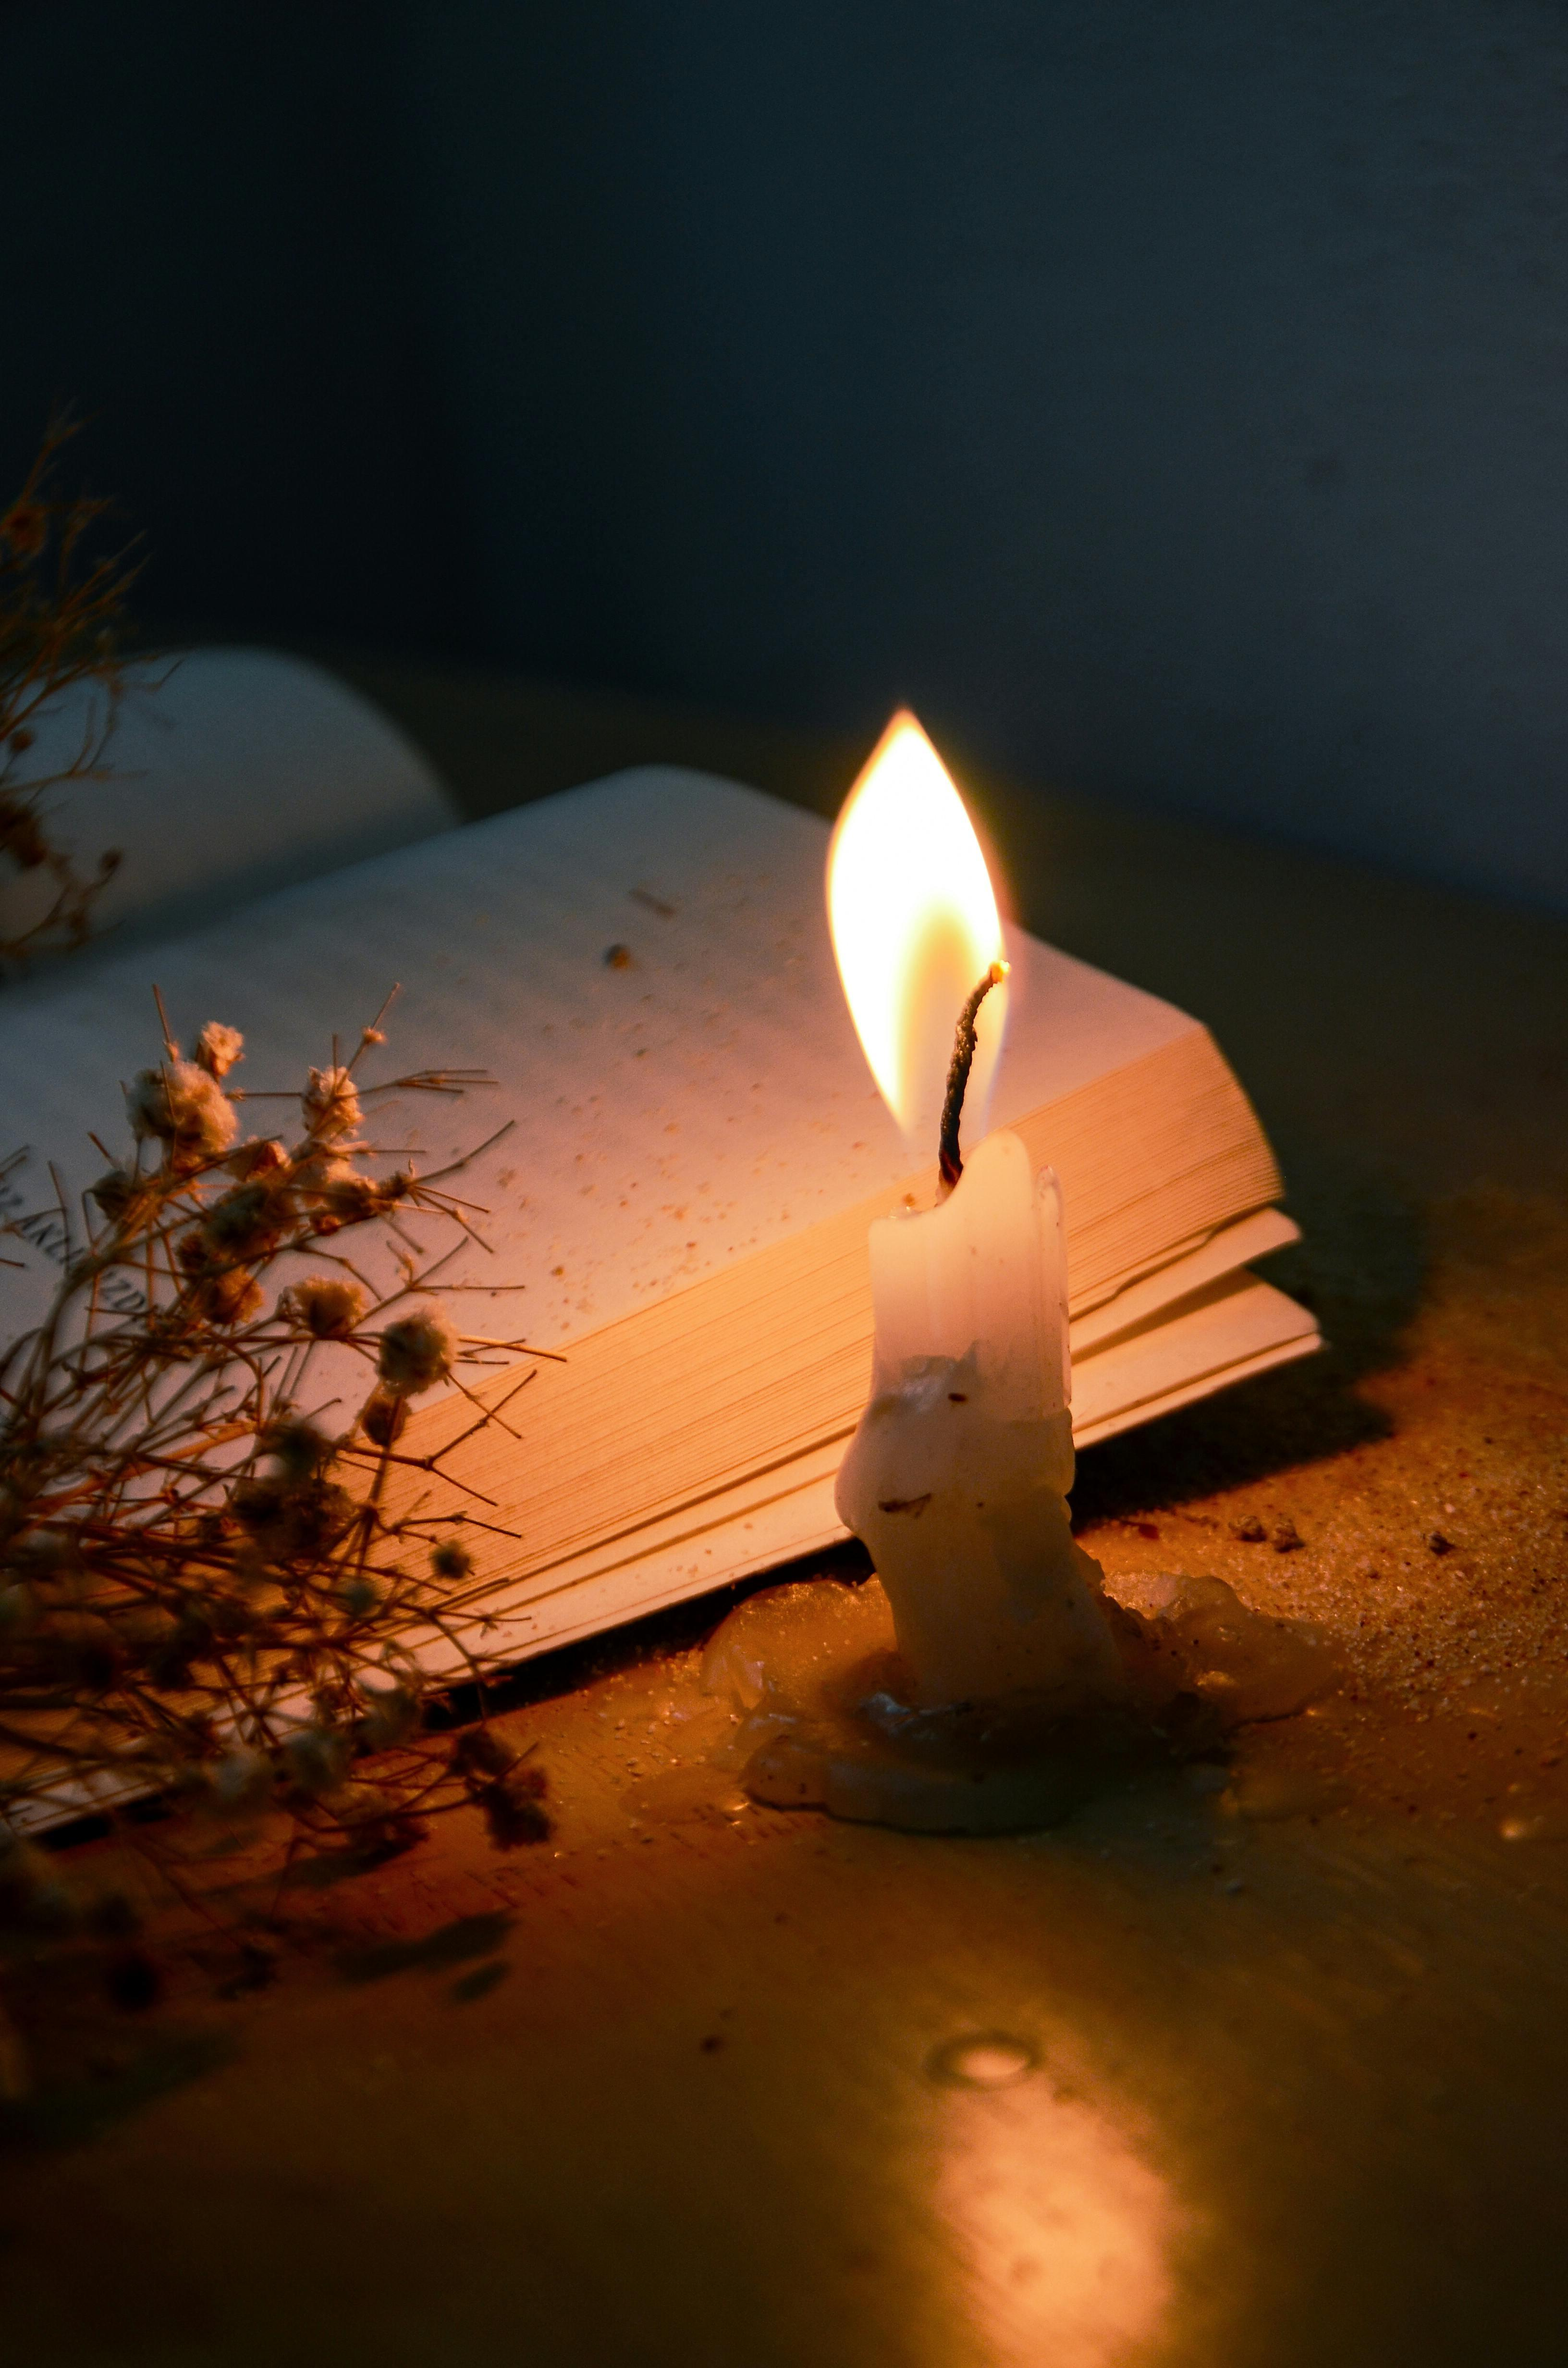Fire: (812, 686, 1043, 1176)
